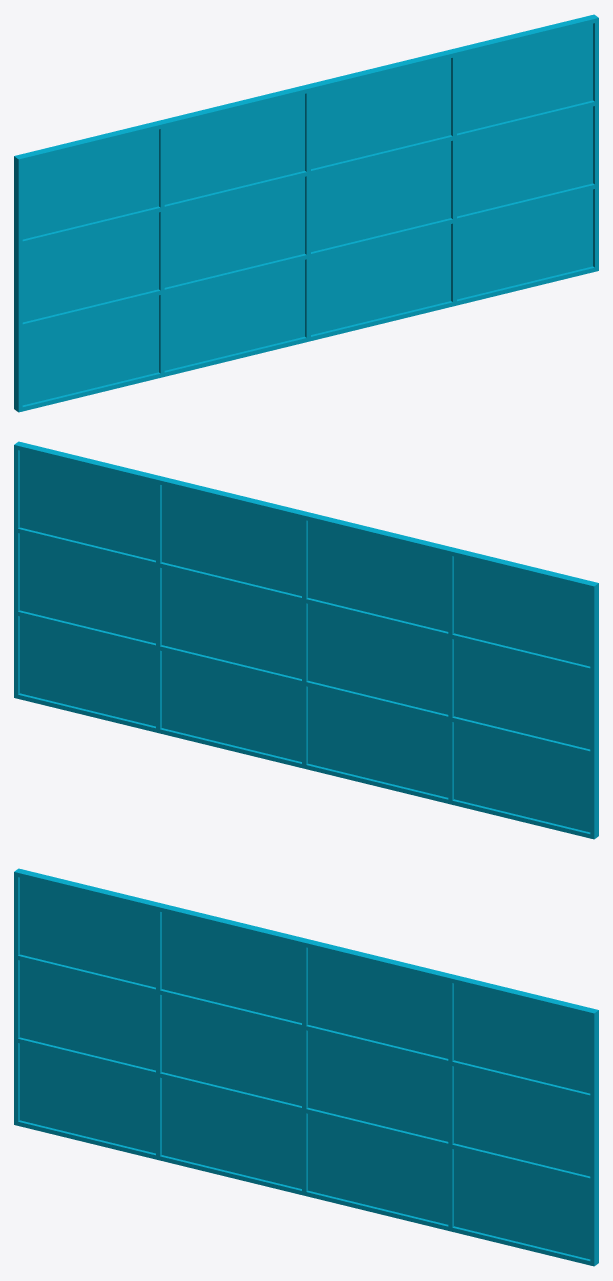
The model's file is curtainwalls_Nivel 1.gltf.
3 renders of one model, top to bottom at view 1: azimuth 30°, elevation 25°; view 2: azimuth 150°, elevation 25°; view 3: azimuth 330°, elevation 25°, orthographic.
Bounding box in the file's own units: 7.2 × 3 × 0.1.
